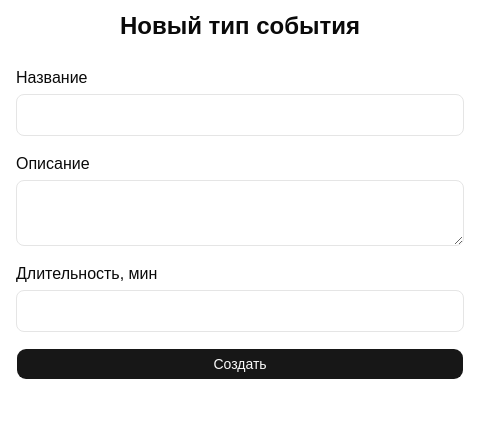
Test: Страница владельца: создание типа события › создаёт тип события и показывает подтверждение
In the field labelled "Название": (240, 115) [16, 94, 464, 136], type "Знакомство"
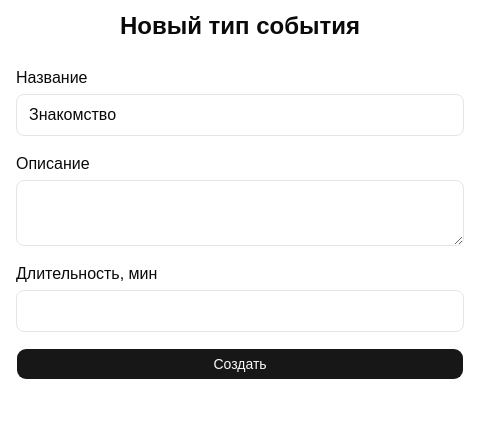
In the text box labelled "Описание": (240, 213) [16, 180, 464, 246], type "Короткий звонок на 15 минут"
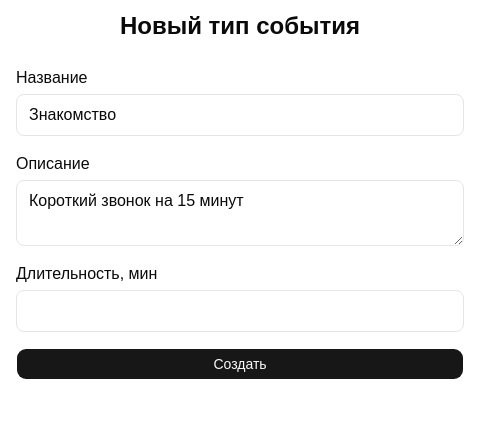
In the number field labelled "Длительность, мин": (240, 311) [16, 290, 464, 332], type "15"
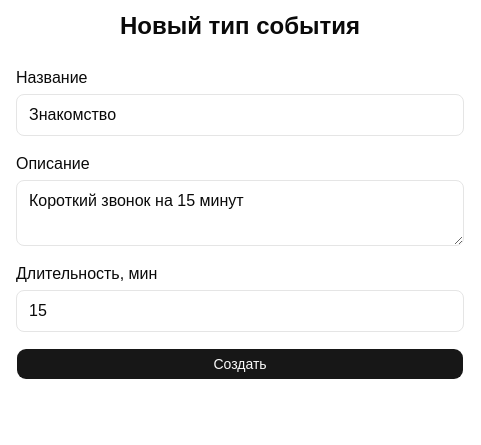
Click the button "Создать": (240, 364) [16, 348, 464, 380]
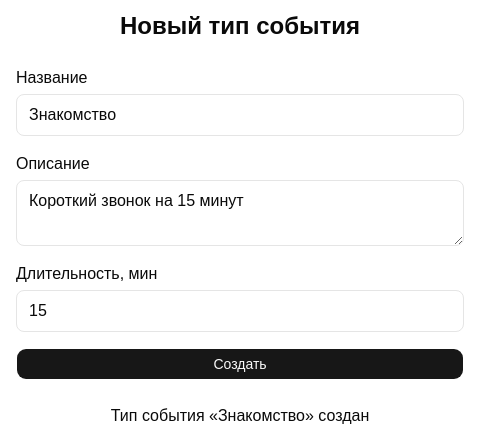
expect the text "Тип события «Знакомство» создан" is shown: met, box [111, 404, 369, 428]
